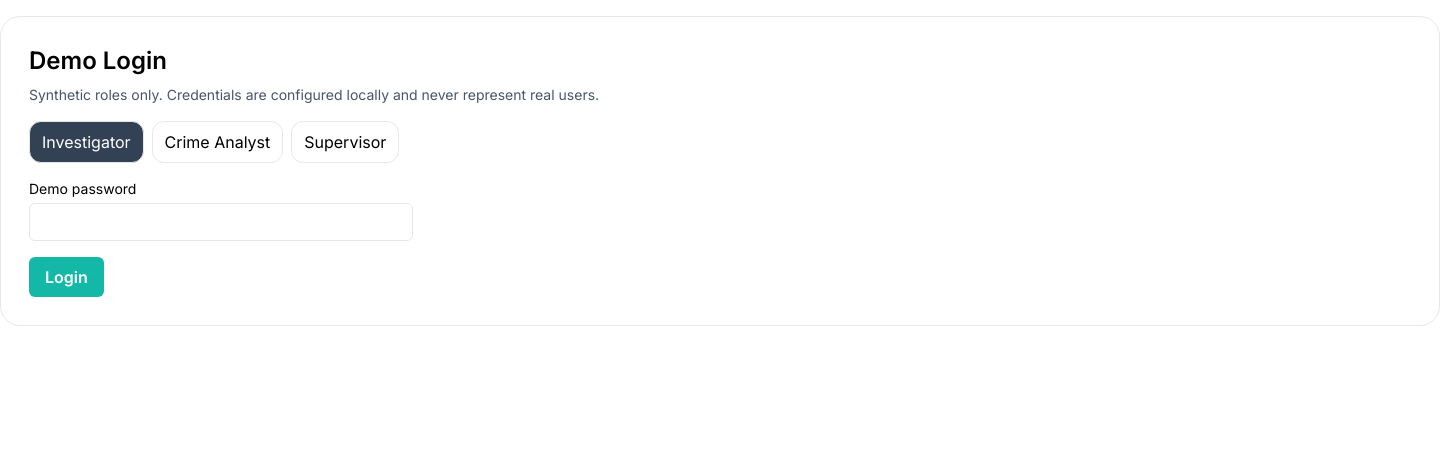
Test: supports purpose/source selection and disables unavailable source
The image size is (1440, 451).
Type "demo" into the password field labelled "Demo password" at [221, 222], box [29,203,413,241]
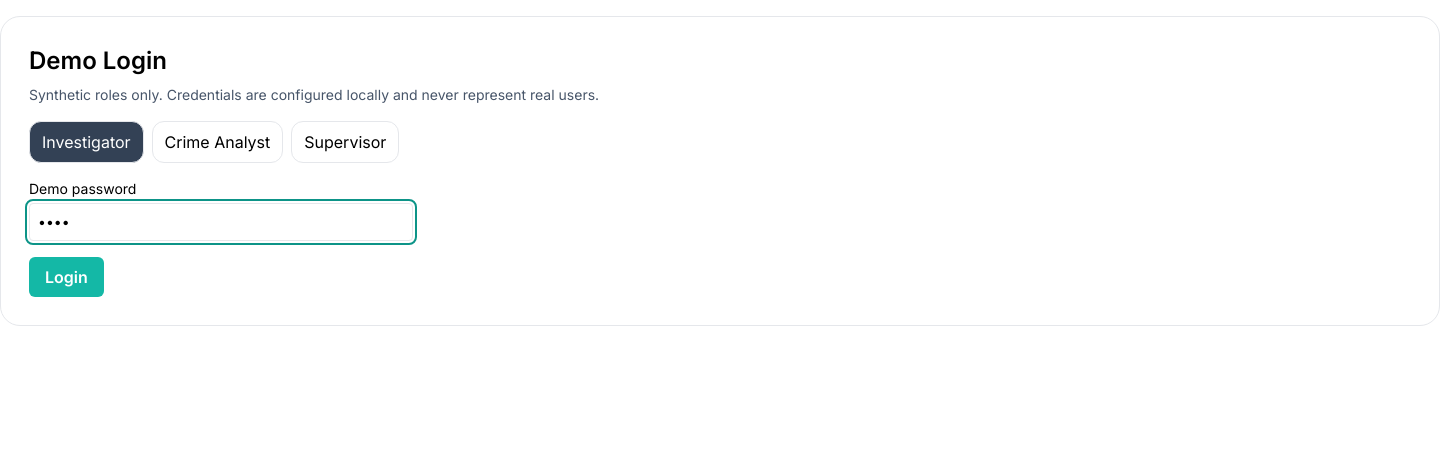
Click the button "Login" at [66, 277], box [29,257,104,297]
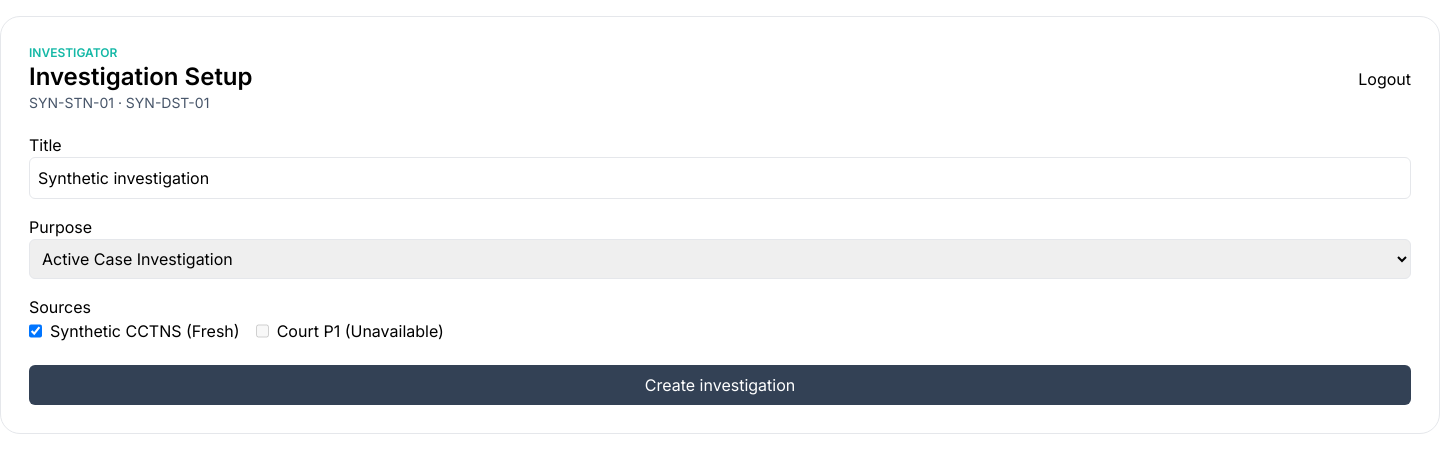
Result: the dropdown labelled "Purpose" shows "Active Case Investigation" at [29,239,1411,279]
Result: the checkbox labelled "Court P1 (Unavailable)" is disabled at [256,319,269,343]
Result: the checkbox labelled "Synthetic CCTNS (Fresh)" is checked at [29,319,42,343]
